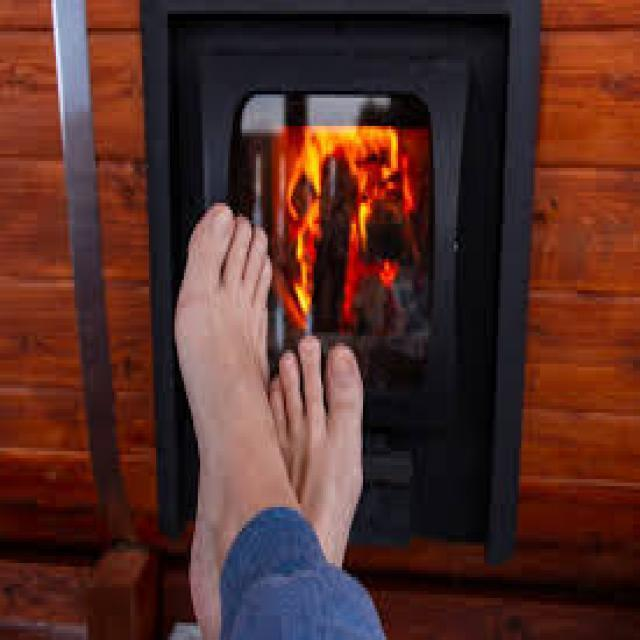No_Shoe: (172, 206, 286, 614)
